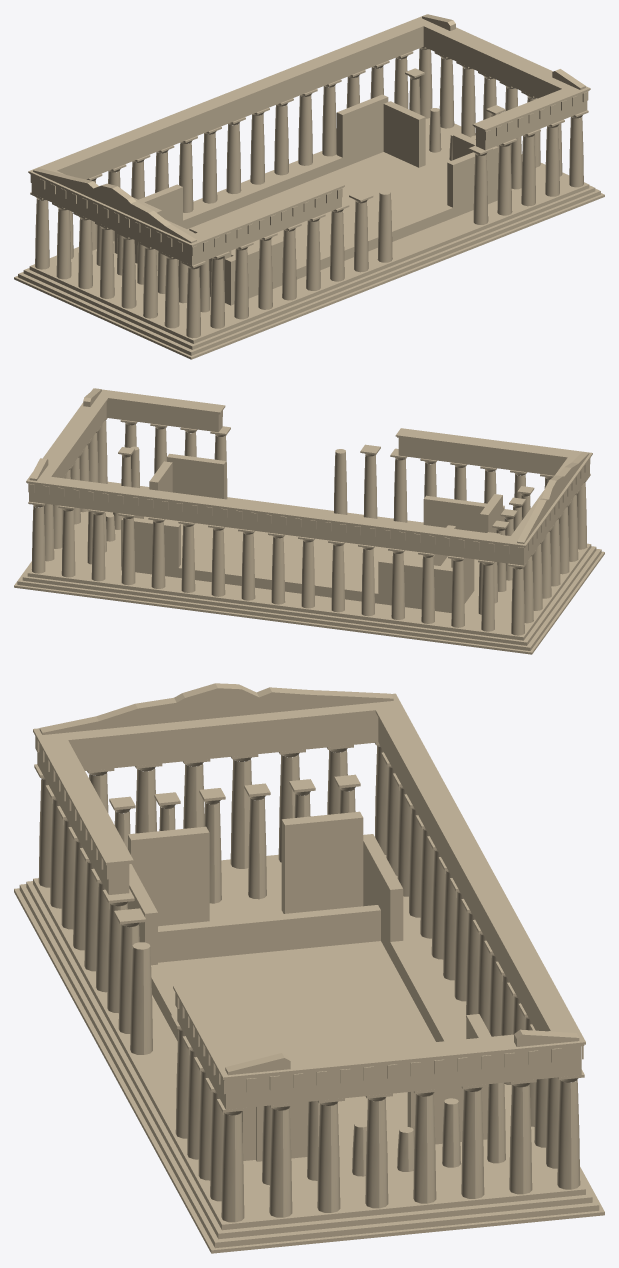
File: parthenon-far.glb
3 renders of one model, top to bottom at view 1: azimuth 30°, elevation 25°; view 2: azimuth 150°, elevation 25°; view 3: azimuth 270°, elevation 25°, orthographic. The views are drawn at different scales.
Parts seen in each view (by area): view 1: parthenon-0-marble; view 2: parthenon-0-marble; view 3: parthenon-0-marble.
Part boxes in pixels (x1=…): parthenon-0-marble: x1=14, y1=14, x2=604, y2=359; parthenon-0-marble: x1=14, y1=388, x2=604, y2=654; parthenon-0-marble: x1=14, y1=683, x2=604, y2=1253.
Bounding box in the file's own units: 78.25 × 18.05 × 48.87.
